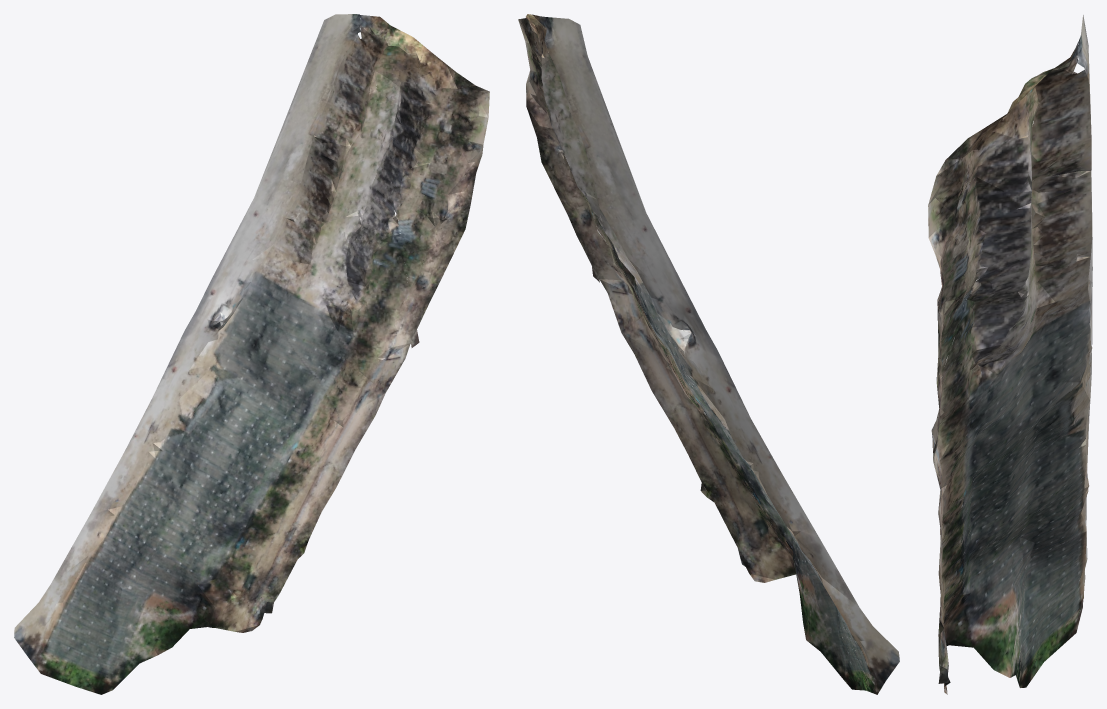
Rendered from T10_DEZEMBRO (1).glb.
The picture shows the model from 3 angles, left to right: view 1: azimuth 30°, elevation 25°; view 2: azimuth 150°, elevation 25°; view 3: azimuth 270°, elevation 25°; orthographic projection. The views are drawn at different scales.
Parts seen in each view (by area): view 1: Bloco 1; view 2: Bloco 1; view 3: Bloco 1.
Part boxes in pixels (x1=…): Bloco 1: x1=14, y1=14, x2=489, y2=694; Bloco 1: x1=518, y1=14, x2=899, y2=694; Bloco 1: x1=928, y1=15, x2=1092, y2=694.
Bounding box in the file's own units: 64.58 × 88.03 × 15.58.
1 material, 1 textured.
